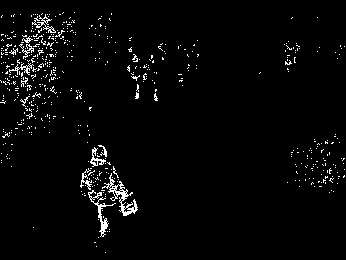person: (79, 144, 138, 236)
